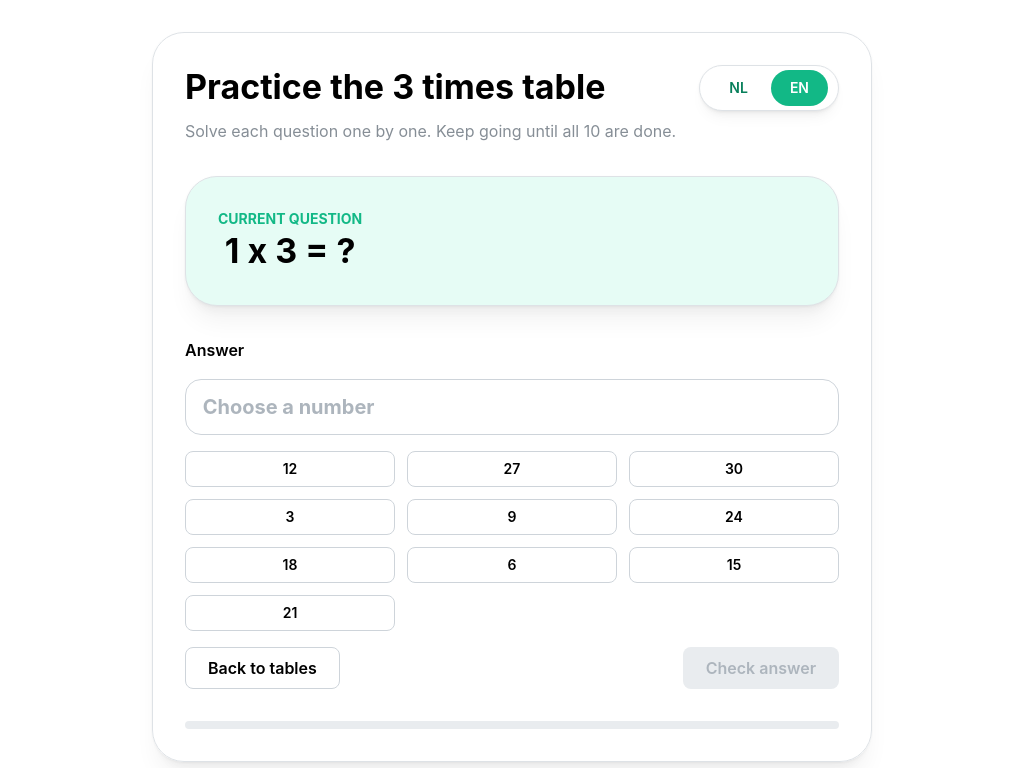
GIVEN the question was answered correctly, WHEN the practice screen is shown, THEN the answer buttons are disabled
Click the button "3": (290, 517) [185,499,395,535]
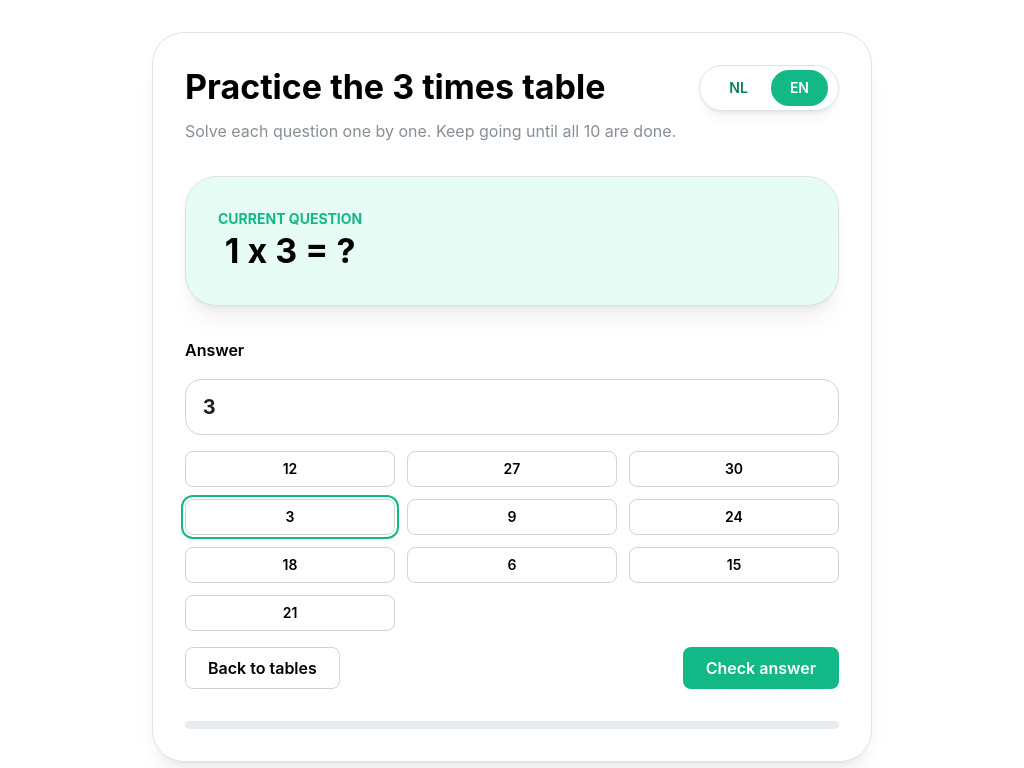
Click the button "Check answer": (761, 668) [683,647,839,689]
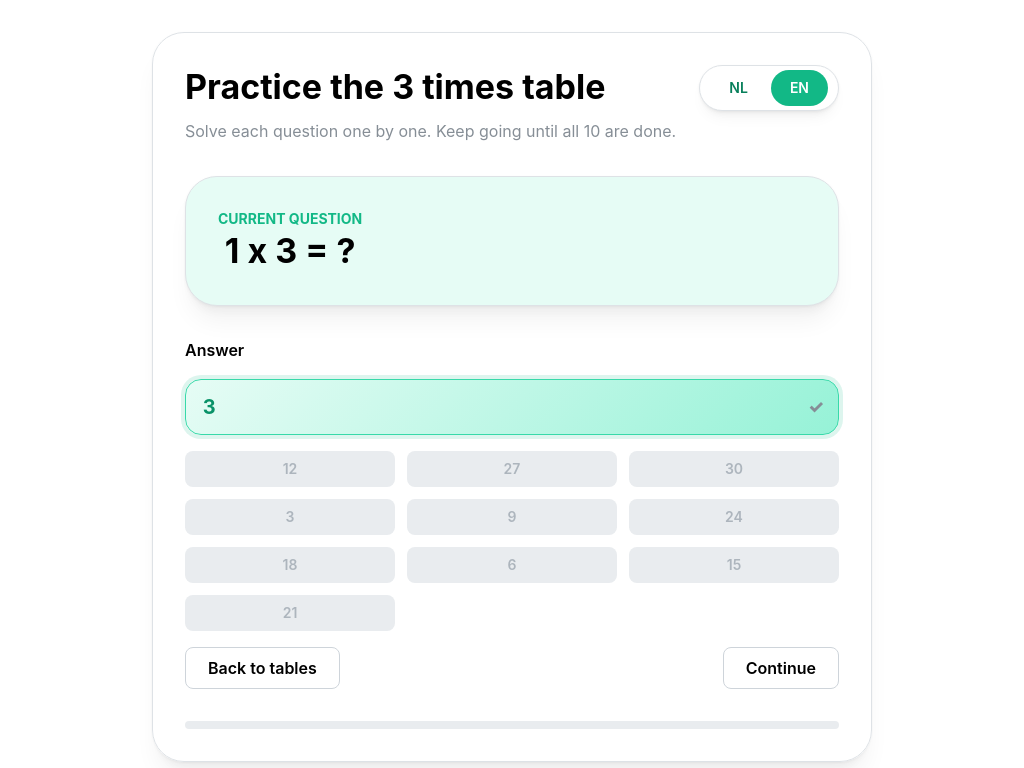
Now the button "3" is disabled, box [185,499,395,535]
Now the button "6" is disabled, box [407,547,617,583]
